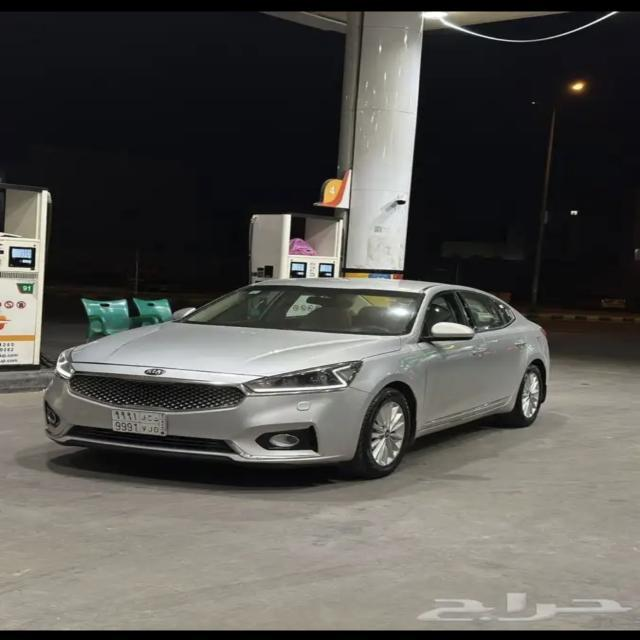license_plate: (112, 408, 166, 436)
